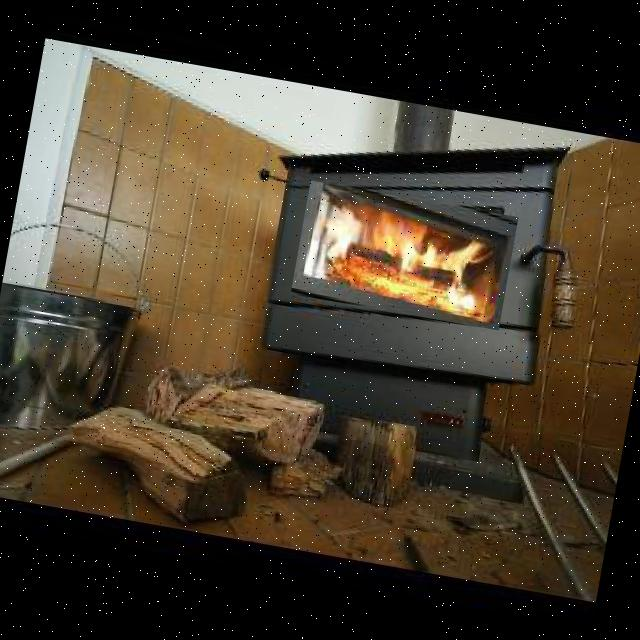fire: (290, 180, 518, 330)
